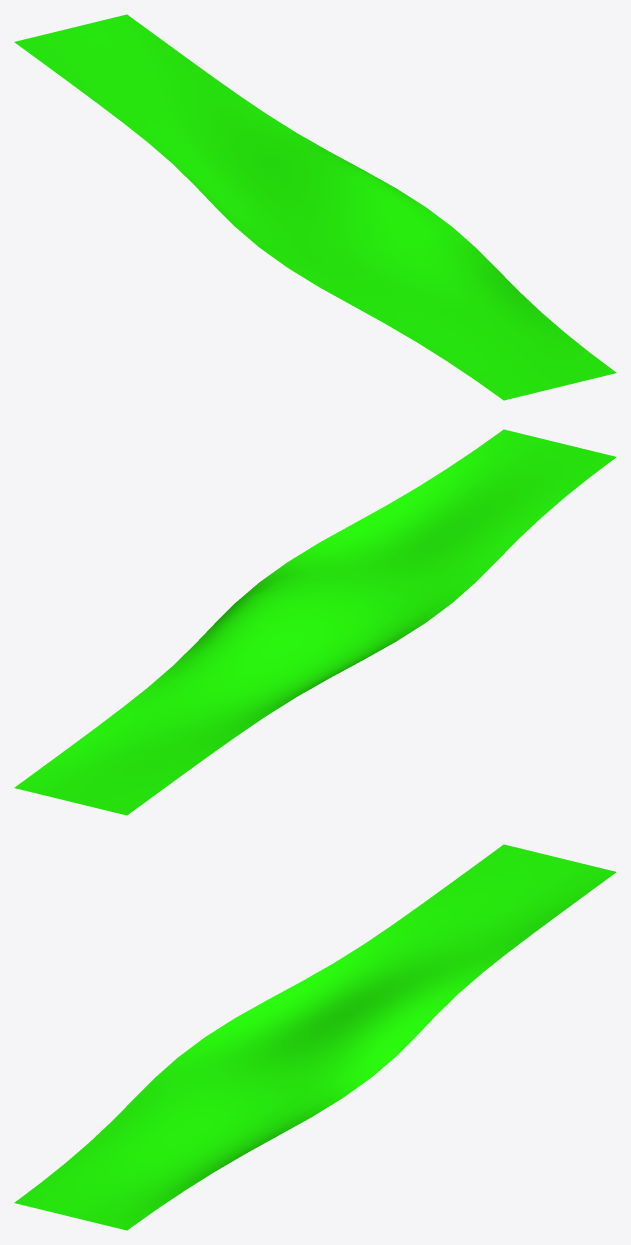
The model's file is Rhino-green.FBX.
3 renders of one model, top to bottom at view 1: azimuth 30°, elevation 25°; view 2: azimuth 150°, elevation 25°; view 3: azimuth 330°, elevation 25°, orthographic.
Parts seen in each view (by area): view 1: Object006; view 2: Object006; view 3: Object006.
Part boxes in pixels (x1=…): Object006: x1=14, y1=14, x2=616, y2=400; Object006: x1=14, y1=429, x2=616, y2=815; Object006: x1=14, y1=844, x2=616, y2=1230.
Size of the model in its own units: 2347 by 302 by 11970.
